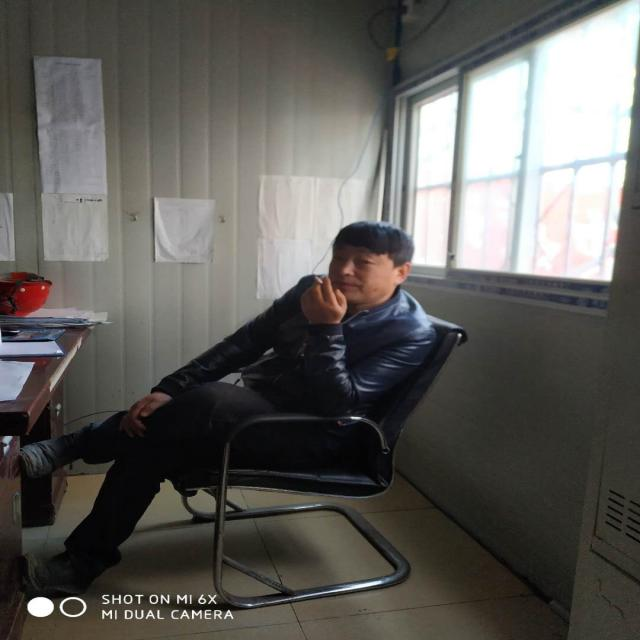smoke: (309, 273, 334, 295)
